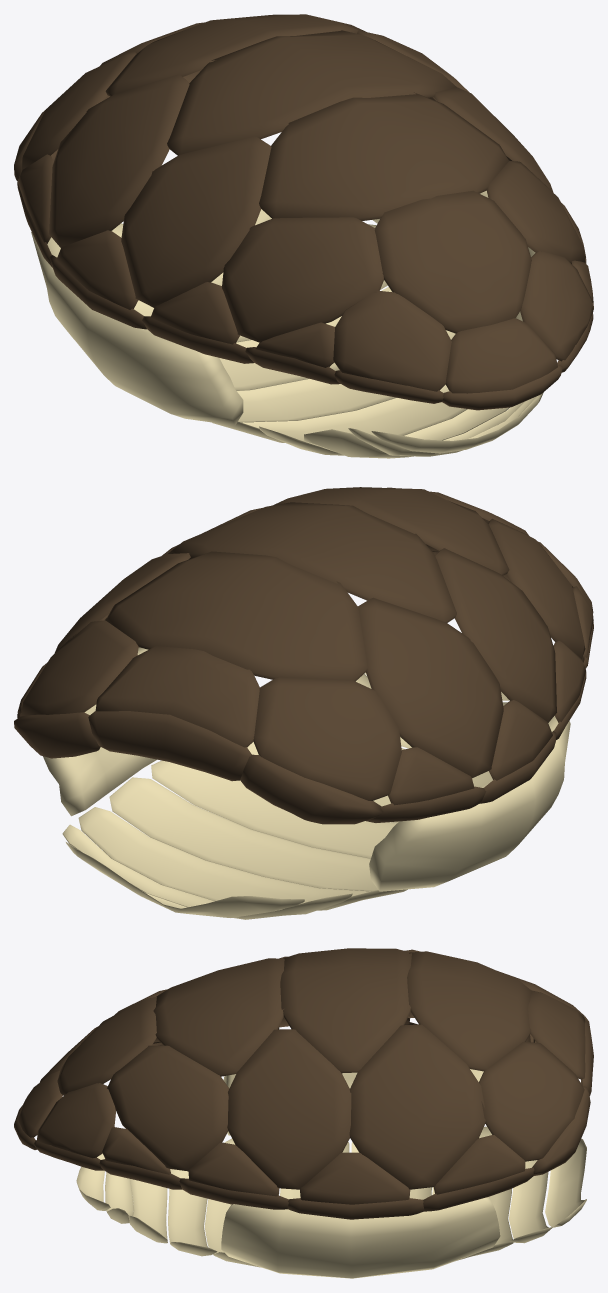
Rendered from Shell.fbx.
3 views of the same model, one above another, from view 1: azimuth 30°, elevation 25°; view 2: azimuth 150°, elevation 25°; view 3: azimuth 270°, elevation 25° (orthographic). The views are drawn at different scales.
Parts seen in each view (by area): view 1: Shell.001; view 2: Shell.001; view 3: Shell.001.
Boxes of the visible parts, x1,y1,x2,y2 form: Shell.001: (14,14,593,458); Shell.001: (14,487,593,919); Shell.001: (14,948,593,1278).
Bounding box in the file's own units: 95.8 × 66.56 × 130.
